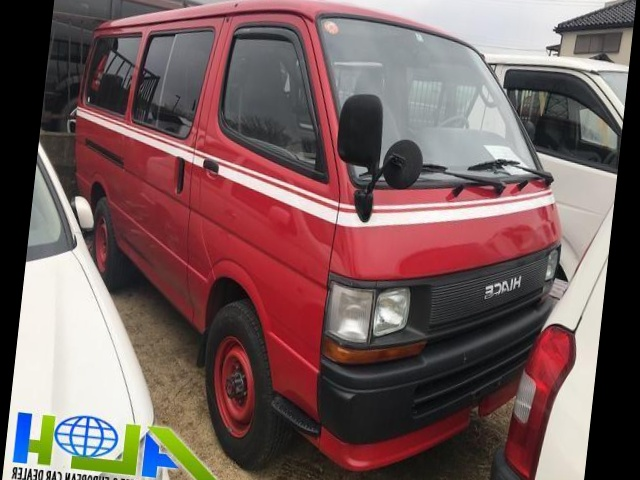van: (42, 0, 583, 472)
